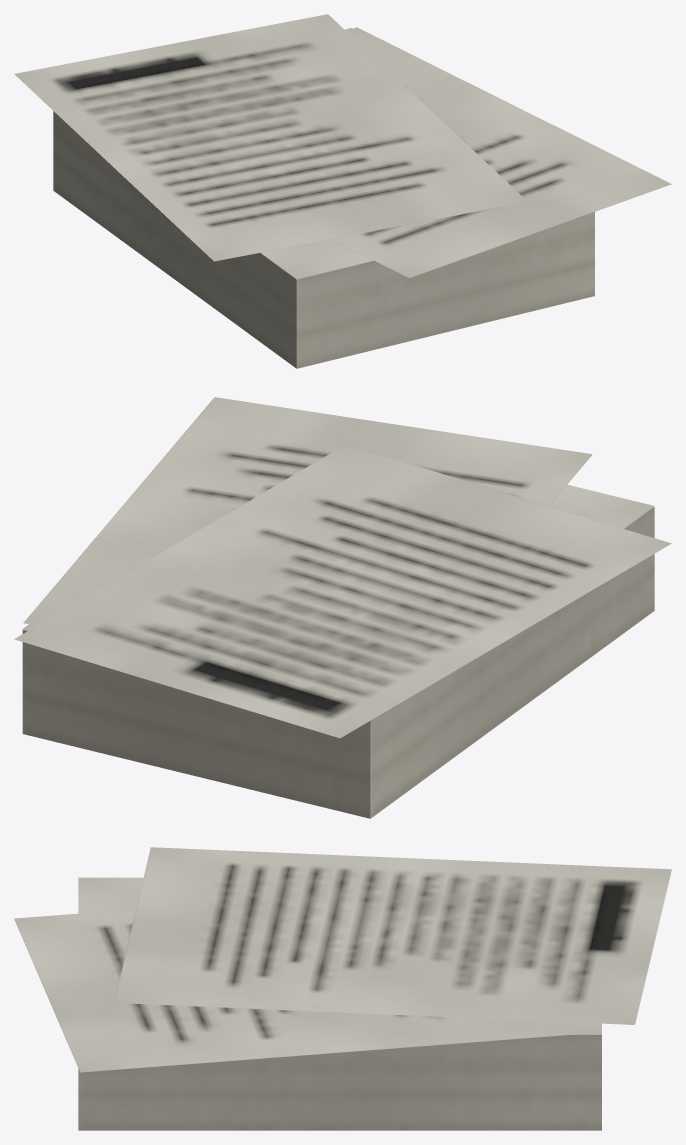
File: Paper_Stack.fbx
3 views of the same model, one above another, from view 1: azimuth 30°, elevation 25°; view 2: azimuth 150°, elevation 25°; view 3: azimuth 270°, elevation 25° (orthographic). The views are drawn at different scales.
Visible parts, largest first — view 1: стопка бумаг; view 2: стопка бумаг; view 3: стопка бумаг.
Part boxes in pixels (<box>): стопка бумаг: <box>14,14,671,368</box>; стопка бумаг: <box>14,397,671,818</box>; стопка бумаг: <box>14,847,671,1130</box>.
Bounding box in the file's own units: 0.2992 × 0.0635 × 0.3731.
1 material, 1 textured.
